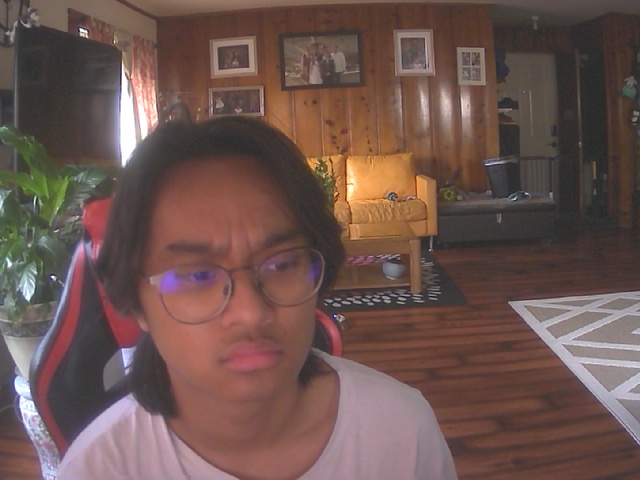anger: (129, 132, 335, 410)
